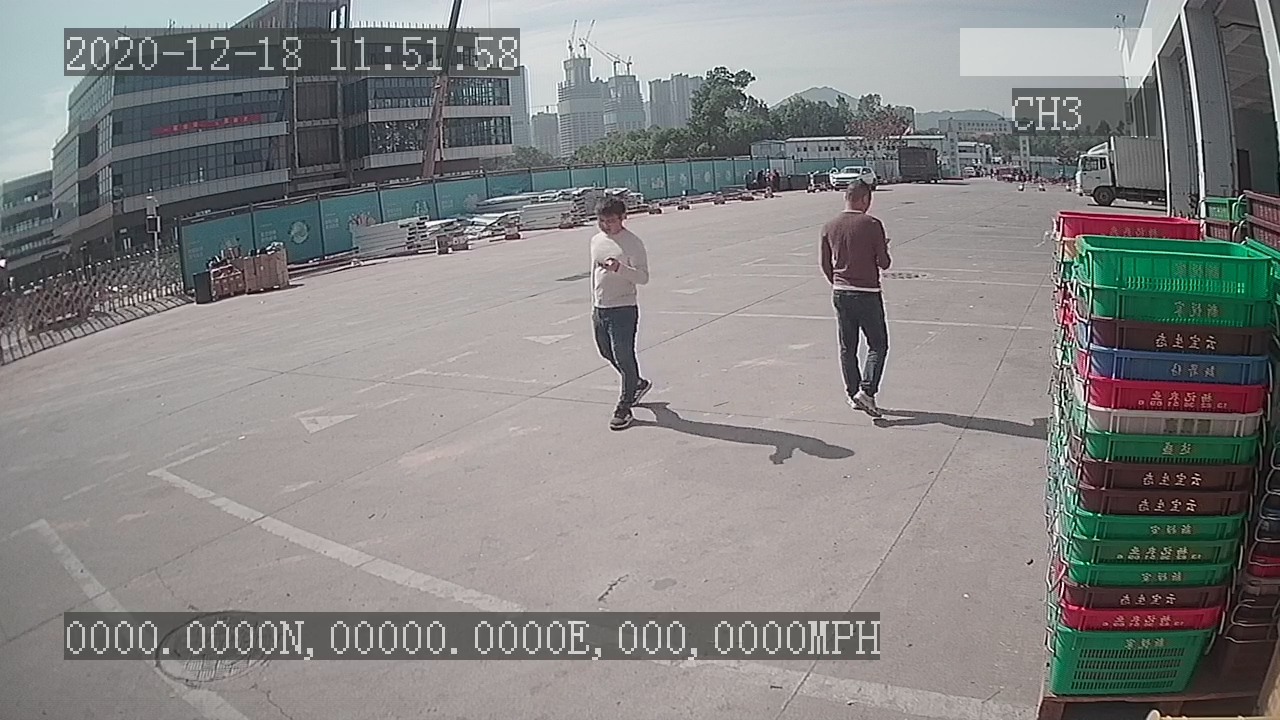person: (809, 176, 899, 424), (579, 190, 663, 435)
